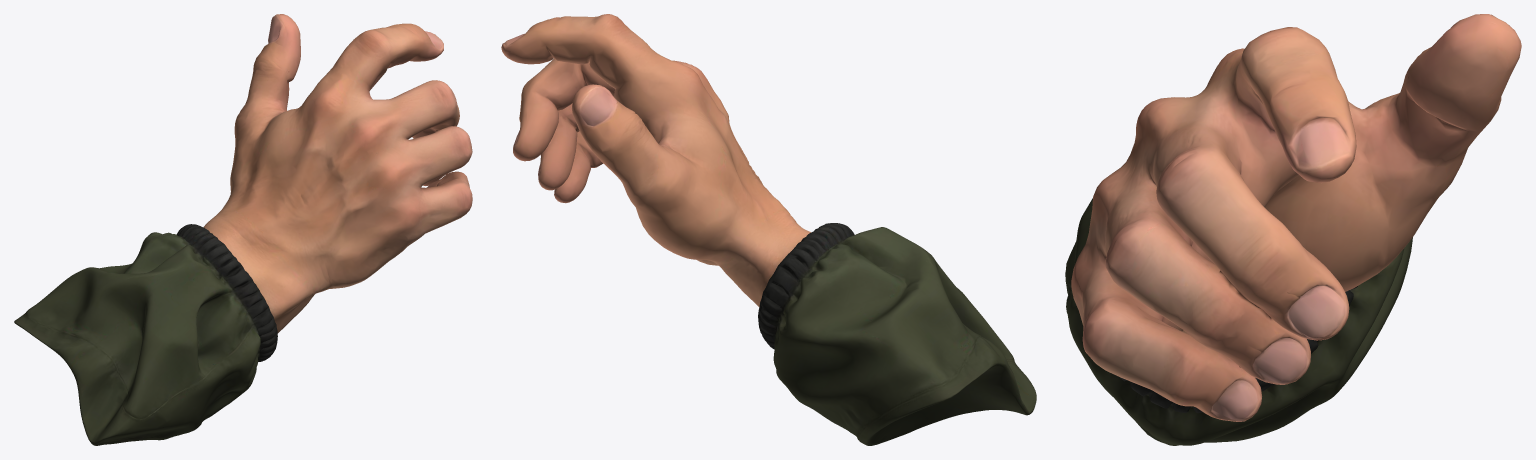
The model's file is hand-grip2.glb.
3 views of the same model, side by side, from view 1: azimuth 30°, elevation 25°; view 2: azimuth 150°, elevation 25°; view 3: azimuth 270°, elevation 25° (orthographic). The views are drawn at different scales.
Parts seen in each view (by area): view 1: tripo_node_5885bb6e-ad3d-44cf-a9e0-f338a2d97175; view 2: tripo_node_5885bb6e-ad3d-44cf-a9e0-f338a2d97175; view 3: tripo_node_5885bb6e-ad3d-44cf-a9e0-f338a2d97175.
Boxes of the visible parts, x1=… form: tripo_node_5885bb6e-ad3d-44cf-a9e0-f338a2d97175: x1=14, y1=14, x2=472, y2=445; tripo_node_5885bb6e-ad3d-44cf-a9e0-f338a2d97175: x1=501, y1=14, x2=1036, y2=445; tripo_node_5885bb6e-ad3d-44cf-a9e0-f338a2d97175: x1=1065, y1=14, x2=1521, y2=445.
Bounding box in the file's own units: 0.9795 × 0.7465 × 0.4969.
1 material, 1 textured.
